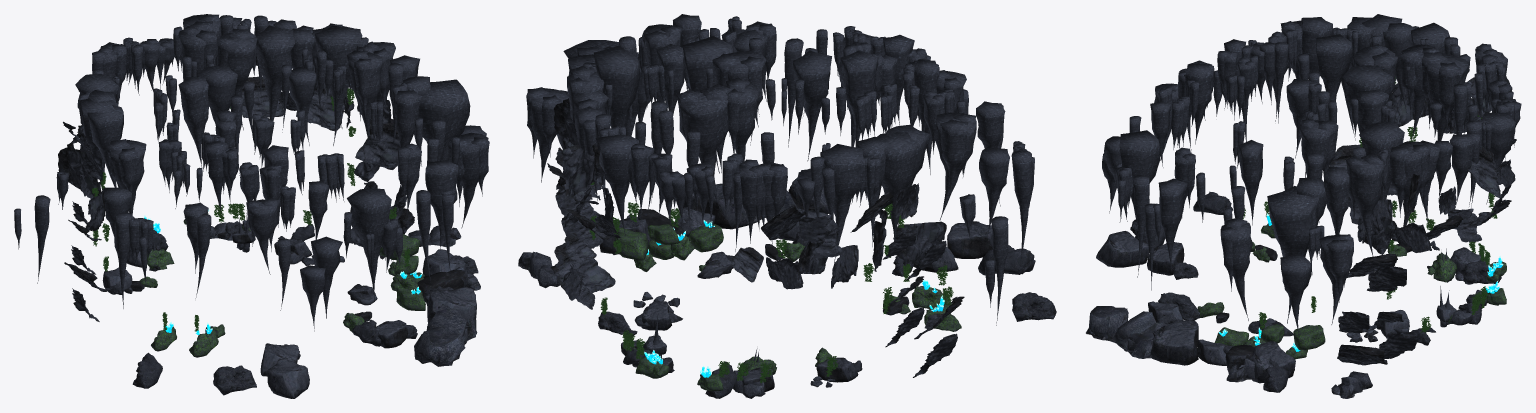
File: area_caverna.glb
The picture shows the model from 3 angles, left to right: view 1: azimuth 30°, elevation 25°; view 2: azimuth 150°, elevation 25°; view 3: azimuth 270°, elevation 25°; orthographic projection. The views are drawn at different scales.
Parts seen in each view (by area): view 1: CAV_costao_002, CAV_est_110, CAV_est_044, CAV_est_108, CAV_est_130, CAV_est_046, CAV_est_091, CAV_est_133, CAV_est_109, CAV_est_039, CAV_est_036, CAV_est_066 (+60 smaller); view 2: CAV_est_034, CAV_est_046, CAV_est_133, CAV_est_borda_004, CAV_est_borda_001, CAV_est_120, CAV_est_124, CAV_est_136, CAV_est_borda_022, CAV_est_039, CAV_est_109, CAV_est_108 (+69 smaller); view 3: CAV_est_110, CAV_costao_002, CAV_est_034, CAV_est_040, CAV_est_borda_029, CAV_costao_004, CAV_est_130, CAV_est_044, CAV_est_120, CAV_est_124, CAV_est_091, CAV_est_108 (+69 smaller).
Boxes of the visible parts, x1,y1,x2,y2 form: CAV_costao_002: [414, 303, 477, 366]; CAV_est_110: [418, 79, 470, 160]; CAV_est_044: [347, 188, 391, 300]; CAV_est_108: [255, 25, 295, 120]; CAV_est_130: [448, 132, 489, 228]; CAV_est_046: [315, 25, 361, 145]; CAV_est_091: [347, 50, 383, 147]; CAV_est_133: [106, 139, 146, 214]; CAV_est_109: [217, 28, 257, 130]; CAV_est_039: [178, 76, 208, 168]; CAV_est_036: [425, 160, 458, 251]; CAV_est_066: [246, 197, 279, 274]; CAV_est_034: [676, 84, 732, 210]; CAV_est_046: [593, 45, 640, 127]; CAV_est_133: [934, 112, 976, 220]; CAV_est_borda_004: [820, 144, 863, 263]; CAV_est_borda_001: [874, 132, 918, 236]; CAV_est_120: [792, 50, 831, 161]; CAV_est_124: [526, 87, 567, 182]; CAV_est_136: [725, 77, 758, 162]; CAV_est_borda_022: [595, 134, 638, 235]; CAV_est_039: [840, 50, 878, 146]; CAV_est_109: [712, 51, 766, 136]; CAV_est_108: [682, 36, 733, 173]; CAV_est_110: [1267, 186, 1319, 323]; CAV_costao_002: [1086, 306, 1169, 358]; CAV_est_034: [1421, 51, 1468, 140]; CAV_est_040: [1346, 153, 1384, 256]; CAV_est_borda_029: [1389, 141, 1430, 226]; CAV_costao_004: [1150, 320, 1198, 365]; CAV_est_130: [1220, 217, 1252, 320]; CAV_est_044: [1119, 130, 1160, 252]; CAV_est_120: [1316, 34, 1353, 101]; CAV_est_124: [1319, 234, 1353, 324]; CAV_est_091: [1299, 119, 1338, 222]; CAV_est_108: [1343, 65, 1393, 147].
Size of the model in its own units: 119 by 65.71 by 103.
13 materials, 11 textured.
